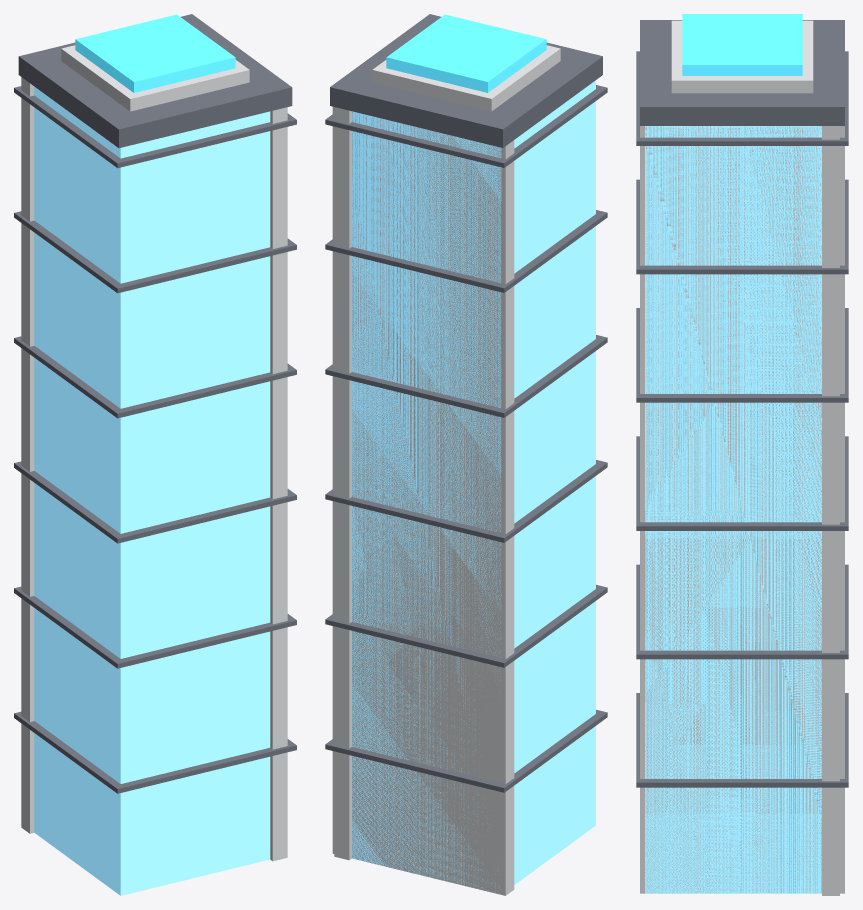
File: res_luxury_3.glb
3 renders of one model, left to right at view 1: azimuth 30°, elevation 25°; view 2: azimuth 150°, elevation 25°; view 3: azimuth 270°, elevation 25°, orthographic. The views are drawn at different scales.
Parts seen in each view (by area): view 1: res_luxury_3; view 2: res_luxury_3; view 3: res_luxury_3.
Boxes of the visible parts, x1,y1,x2,y2 form: res_luxury_3: [14, 14, 296, 895]; res_luxury_3: [325, 14, 607, 895]; res_luxury_3: [636, 14, 848, 895].
Bounding box in the file's own units: 0.6 × 2.54 × 0.6.
